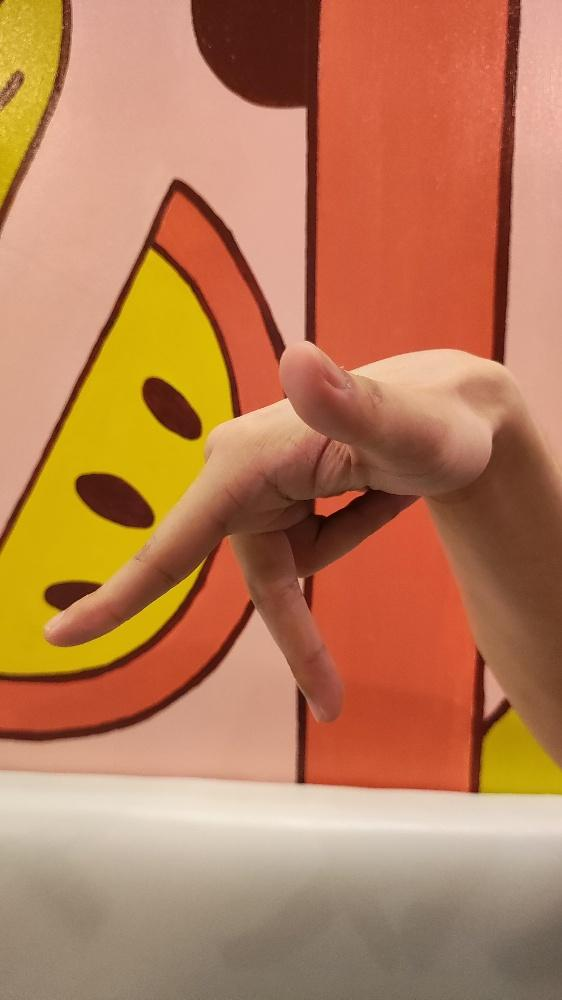p: (38, 336, 496, 723)
